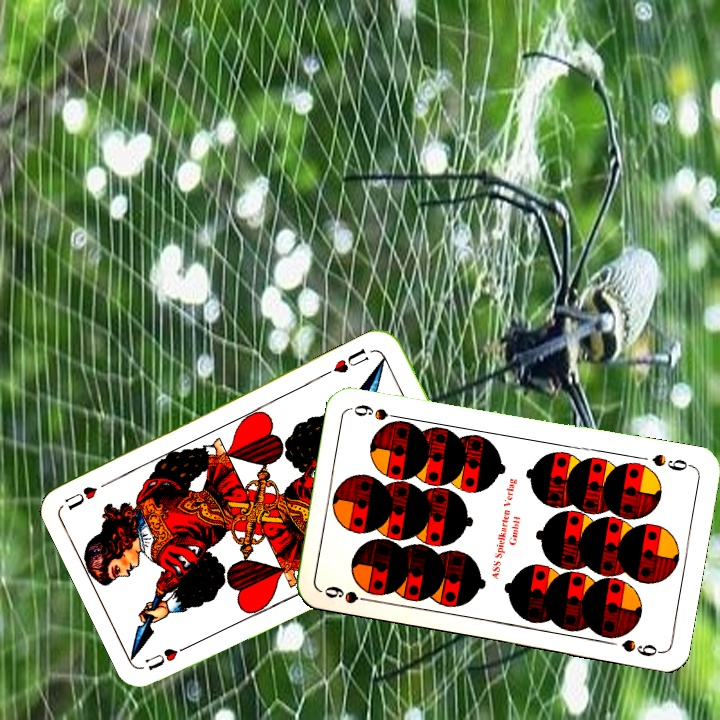HU: (141, 638, 197, 673), (321, 344, 371, 378)
S9: (320, 581, 378, 606), (648, 450, 695, 474)
